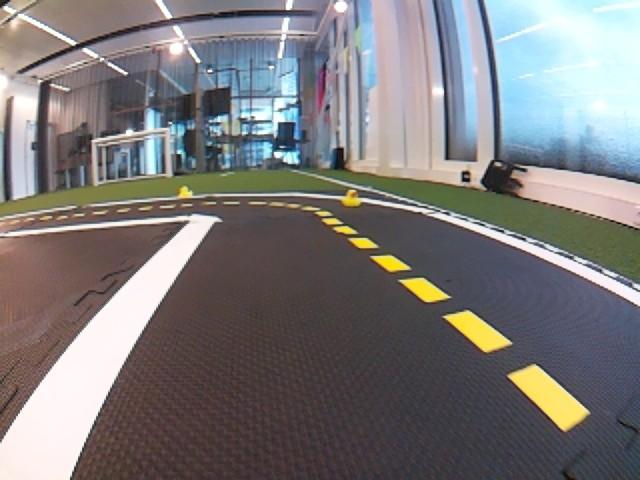Duckies: (340, 190, 362, 207), (178, 185, 193, 198)
